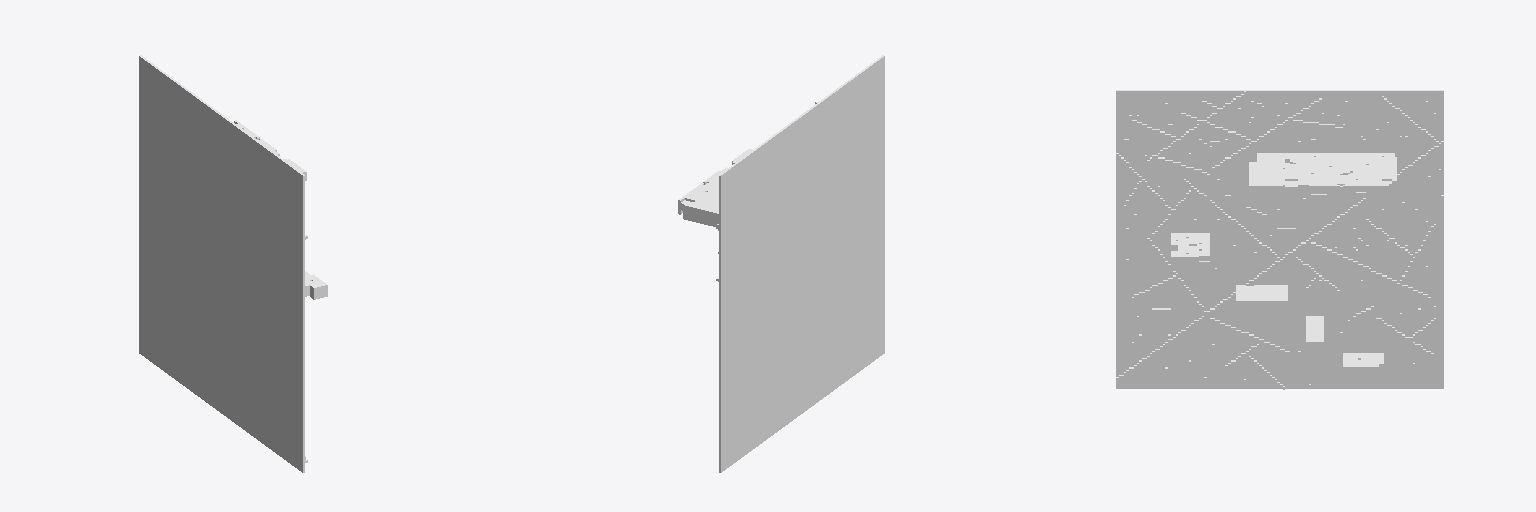
File: val1.obj
The picture shows the model from 3 angles: view 1: azimuth 30°, elevation 25°; view 2: azimuth 150°, elevation 25°; view 3: azimuth 270°, elevation 25°; orthographic projection.
Parts seen in each view (by area): view 1: val1; view 2: val1; view 3: val1.
Boxes of the visible parts, box(x1,y1,x2,y2) form: val1: box(139, 55, 327, 472); val1: box(678, 55, 884, 472); val1: box(1116, 90, 1443, 389).
Bounding box in the file's own units: 31 × 126 × 126.